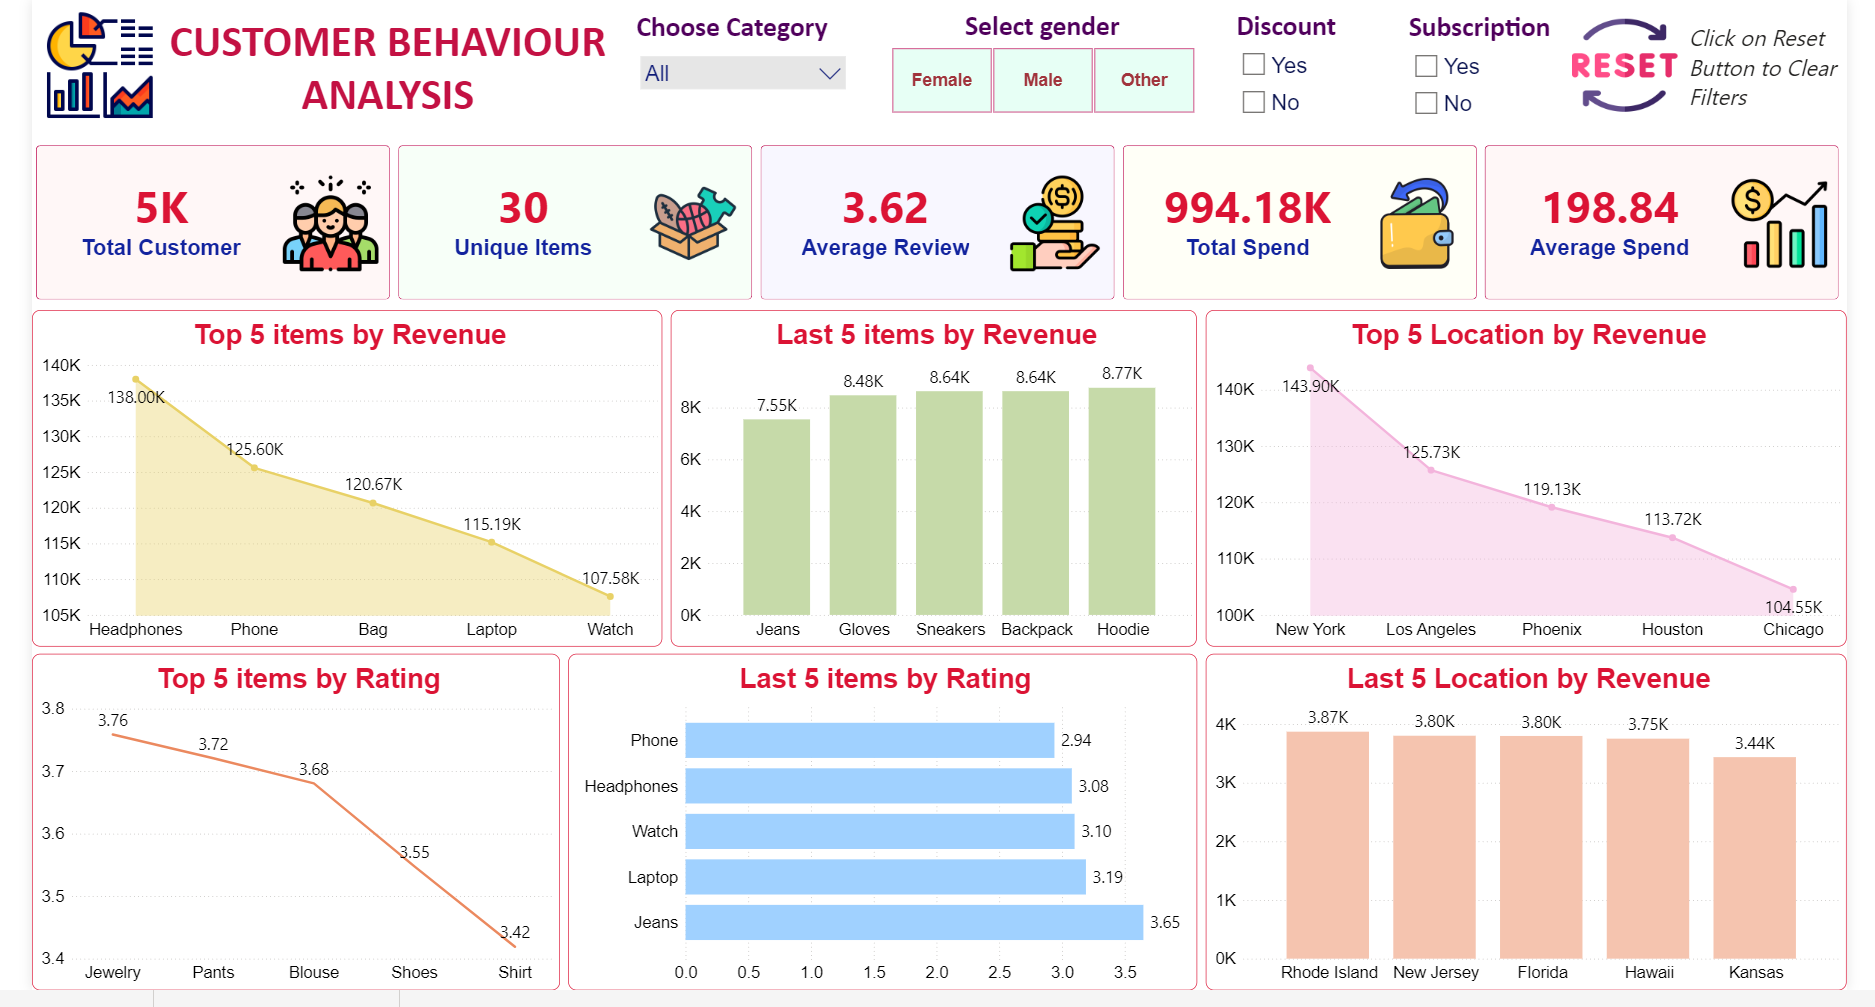

What the dashboard file says about the page in this screenshot:
{"tool":"powerbi","page":{"name":"Best & Worst","canvas":[2200,1200],"ordinal":1},"visuals":[{"type":"lineChart","title":"Top 5 items by Rating","fields":{"Category":["customer_behaviour_analysis.item_purchased"],"Y":["Avg(customer_behaviour_analysis.review_rating)"]},"box":[0,792.8,639.9,407.6],"z":0},{"type":"barChart","title":"Last 5 items by Rating","fields":{"Category":["customer_behaviour_analysis.item_purchased"],"Y":["Avg(customer_behaviour_analysis.review_rating)"]},"box":[650.1,792.8,762.2,407.6],"z":1000},{"type":"areaChart","title":"Top 5 items by Revenue","fields":{"Category":["customer_behaviour_analysis.item_purchased"],"Y":["Sum(customer_behaviour_analysis.purchase_amount)"]},"box":[0,375,764.3,407.6],"z":2000},{"type":"columnChart","title":"Last 5 items by Revenue","fields":{"Category":["customer_behaviour_analysis.item_purchased"],"Y":["Sum(customer_behaviour_analysis.purchase_amount)"]},"box":[774.5,375,637.9,407.6],"z":3000},{"type":"areaChart","title":"Top 5 Location by Revenue","fields":{"Category":["customer_behaviour_analysis.location"],"Y":["Sum(customer_behaviour_analysis.purchase_amount)"]},"box":[1422.6,375,776.5,407.6],"z":4000},{"type":"columnChart","title":"Last 5 Location by Revenue","fields":{"Category":["customer_behaviour_analysis.location"],"Y":["Sum(customer_behaviour_analysis.purchase_amount)"]},"box":[1422.6,792.8,776.5,407.6],"z":5000},{"type":"cardVisual","fields":{"Data":["customer_behaviour_analysis.Measure","customer_behaviour_analysis.Unique Items","customer_behaviour_analysis.Average Review","customer_behaviour_analysis.Total Spend","customer_behaviour_analysis.Average Spend"]},"box":[0,171.2,2199.1,197.7],"z":6000},{"type":"textbox","box":[152.9,12.2,556.4,159],"z":7000},{"type":"image","box":[10.2,10.2,142.7,136.5],"z":8000},{"type":"slicer","title":"Choose Category","fields":{"Values":["customer_behaviour_analysis.category"]},"box":[727.6,12.2,269,134.5],"z":9000},{"type":"slicer","title":"Select gender","fields":{"Values":["customer_behaviour_analysis.gender"]},"box":[1017,10.2,415.8,132.5],"z":10000},{"type":"slicer","title":"Discount","fields":{"Values":["customer_behaviour_analysis.discount_applied"]},"box":[1455.2,10.2,207.9,161],"z":11000},{"type":"slicer","title":"Subscription","fields":{"Values":["customer_behaviour_analysis.subscription_status"]},"box":[1663.1,12.2,207.9,161],"z":12000},{"type":"actionButton","box":[1866.8,23.5,128,113.1],"z":12001},{"type":"textbox","box":[2003.3,23.5,196.3,125.9],"z":12002}]}

Visuals, with their boxes in screenshot pixels (x1, y1, x2, y2), scaled from the page's 2200x1200 canvas onto the 1875x1007 screenshot:
"Top 5 items by Rating" lineChart: (0, 665, 545, 1006)
"Last 5 items by Rating" barChart: (554, 665, 1204, 1006)
"Top 5 items by Revenue" areaChart: (0, 315, 651, 657)
"Last 5 items by Revenue" columnChart: (660, 315, 1204, 657)
"Top 5 Location by Revenue" areaChart: (1212, 315, 1874, 657)
"Last 5 Location by Revenue" columnChart: (1212, 665, 1874, 1006)
cardVisual - customer_behaviour_analysis.Measure x customer_behaviour_analysis.Unique Items: (0, 144, 1874, 310)
textbox: (130, 10, 605, 144)
image: (9, 9, 130, 123)
"Choose Category" slicer: (620, 10, 849, 123)
"Select gender" slicer: (867, 9, 1221, 120)
"Discount" slicer: (1240, 9, 1417, 144)
"Subscription" slicer: (1417, 10, 1595, 145)
actionButton: (1591, 20, 1700, 115)
textbox: (1707, 20, 1874, 125)
